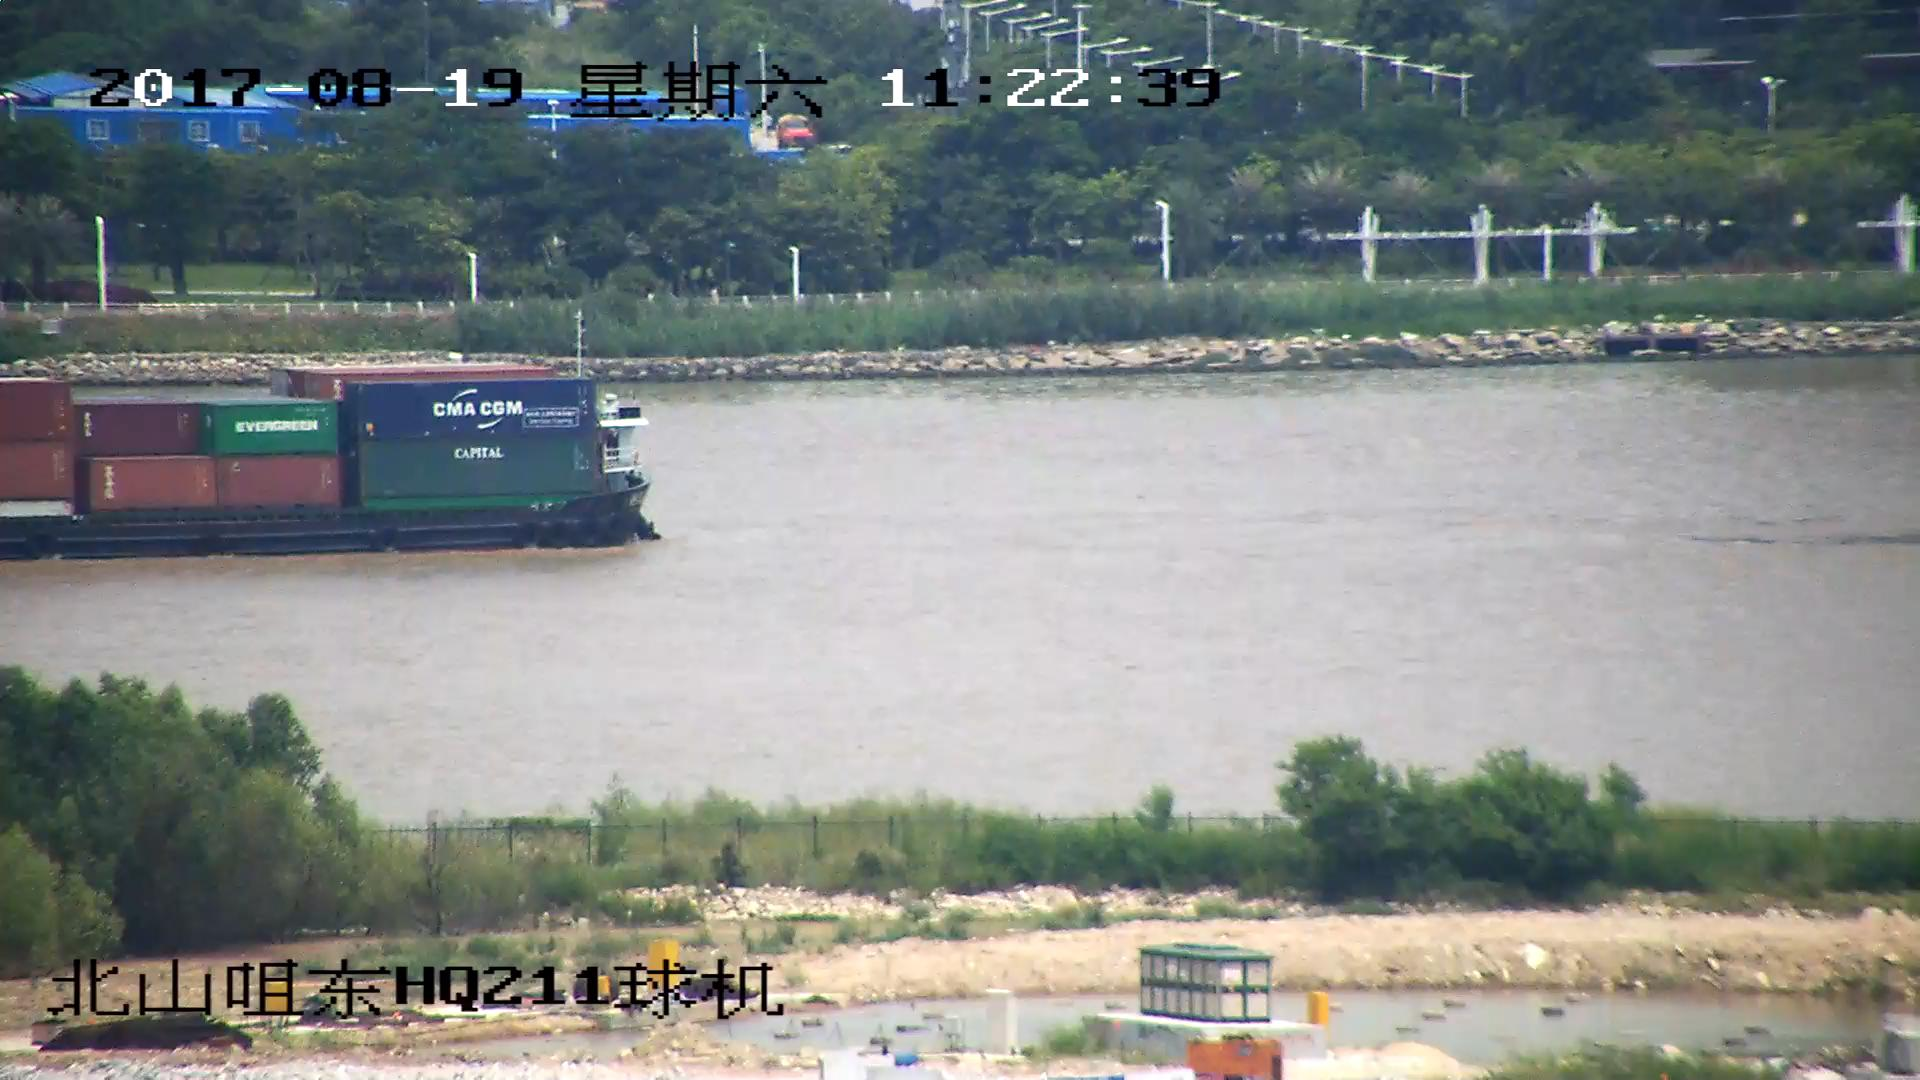container ship: (1, 358, 661, 565)
